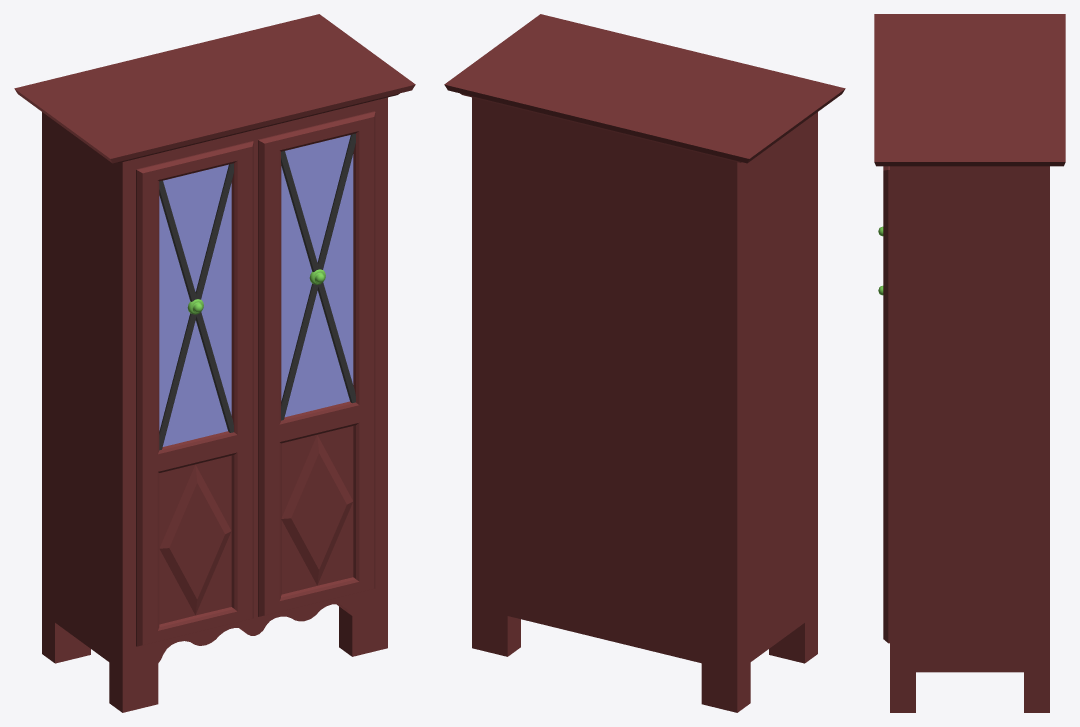
3 renders of one model, left to right at view 1: azimuth 30°, elevation 25°; view 2: azimuth 150°, elevation 25°; view 3: azimuth 270°, elevation 25°, orthographic.
Visible parts, largest first — view 1: armario_00_LP_madera_0, armario_00_LP_vidrio_0, armario_00_LP_metal_oscuro_0; view 2: armario_00_LP_madera_0; view 3: armario_00_LP_madera_0.
Part boxes in pixels (x1,y1,x2,y2): armario_00_LP_madera_0: (14, 14, 415, 712); armario_00_LP_vidrio_0: (159, 135, 353, 446); armario_00_LP_metal_oscuro_0: (159, 133, 355, 450); armario_00_LP_madera_0: (444, 14, 845, 712); armario_00_LP_madera_0: (874, 14, 1065, 712).
Size of the model in its own units: 21.85 by 38.61 by 11.95.
